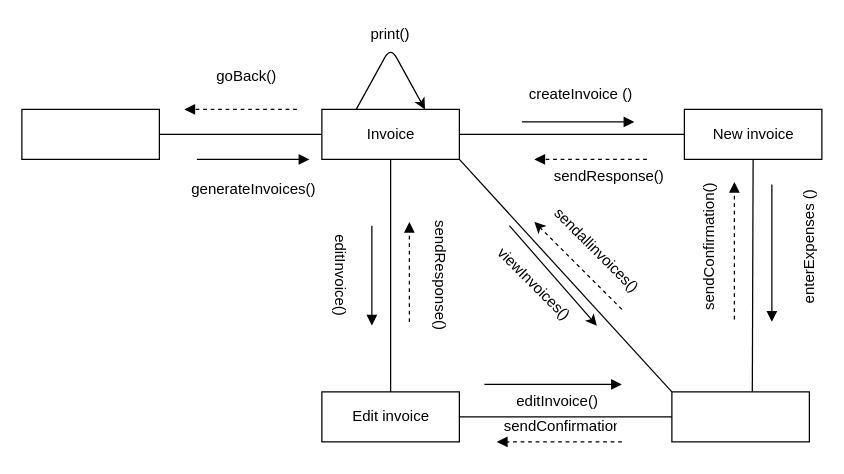
Some shapes in this 844 by 474 pixel diagram are drawn without their labels. The shapes that lost their labels are listed below. From the top down, each one's centre as x and y in pixels, then its label:
At point (90, 133): "Dashboard".
At point (740, 416): "Database".
